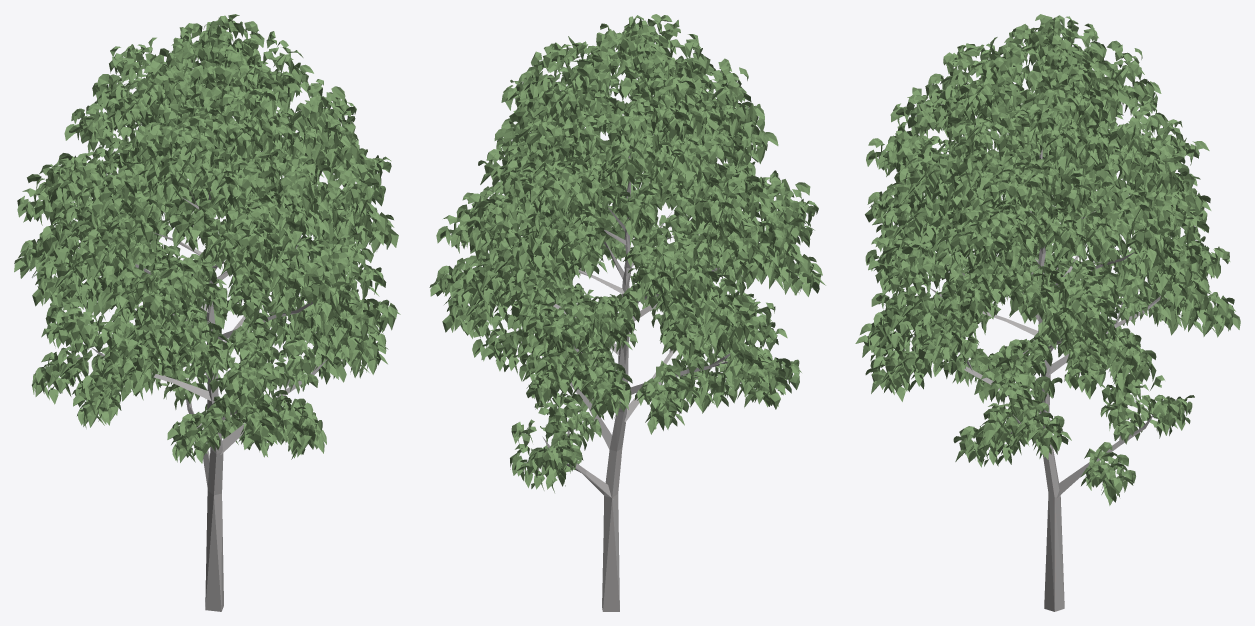
The model's file is Tree3Comp.glb.
3 renders of one model, left to right at view 1: azimuth 30°, elevation 25°; view 2: azimuth 150°, elevation 25°; view 3: azimuth 270°, elevation 25°, orthographic. The views are drawn at different scales.
Visible parts, largest first — view 1: Tree.Birch; view 2: Tree.Birch; view 3: Tree.Birch.
Boxes of the visible parts, left/top/right/bottom form: Tree.Birch: left=14, top=14, right=400, bottom=611; Tree.Birch: left=429, top=14, right=825, bottom=611; Tree.Birch: left=855, top=14, right=1240, bottom=611.
Size of the model in its own units: 2.39 by 3.92 by 2.37.
Materials: 1 (1 with a texture image).
